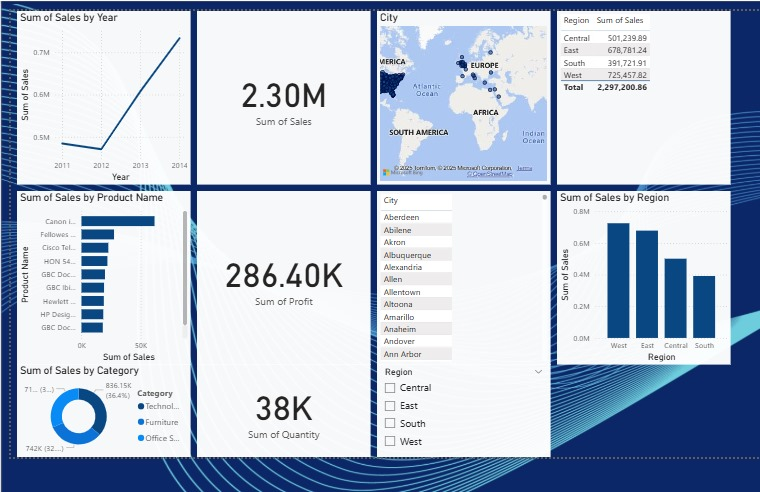

What the dashboard file says about the page in this screenshot:
{"tool":"powerbi","page":{"name":"Page 1","canvas":[1280,720],"ordinal":0},"visuals":[{"type":"lineChart","fields":{"Category":["Orders.Order Date.Variation.Date Hierarchy.Year","Orders.Order Date.Variation.Date Hierarchy.Quarter","Orders.Order Date.Variation.Date Hierarchy.Month","Orders.Order Date.Variation.Date Hierarchy.Day"],"Y":["Sum(Orders.Sales)"]},"box":[10,0,280,280],"z":0},{"type":"barChart","fields":{"Category":["Orders.Product Name"],"Y":["Sum(Orders.Sales)"]},"box":[10,290,280,280],"z":1000},{"type":"donutChart","fields":{"Category":["Orders.Category"],"Y":["Sum(Orders.Sales)"]},"box":[10,570,280,150],"z":2000},{"type":"card","fields":{"Values":["Sum(Orders.Sales)"]},"box":[300,0,280,280],"z":3000},{"type":"card","fields":{"Values":["Sum(Orders.Profit)"]},"box":[300,290,280,280],"z":4000},{"type":"card","fields":{"Values":["Sum(Orders.Quantity)"]},"box":[300,570,280,150],"z":5000},{"type":"map","fields":{"Category":["Orders.City"]},"box":[590,0,280,280],"z":6000},{"type":"tableEx","fields":{"Values":["Orders.City"]},"box":[590,290,280,280],"z":7000},{"type":"slicer","fields":{"Values":["Orders.Region"]},"box":[590,570,280,150],"z":8000},{"type":"tableEx","fields":{"Values":["People.Region","Sum(Orders.Sales)"]},"box":[880,0,280,280],"z":9000},{"type":"clusteredColumnChart","fields":{"Category":["Orders.Region"],"Y":["Sum(Orders.Sales)"]},"box":[880,290,280,280],"z":10000}]}

Visuals, with their boxes in screenshot pixels (x1, y1, x2, y2):
lineChart - Orders.Order Date.Variation.Date Hierarchy.Year x Orders.Order Date.Variation.Date Hierarchy.Quarter: locate(20, 16, 190, 186)
barChart - Orders.Product Name x Sum(Orders.Sales): locate(20, 192, 190, 362)
donutChart - Orders.Category x Sum(Orders.Sales): locate(20, 362, 190, 453)
card - Sum(Orders.Sales): locate(196, 16, 366, 186)
card - Sum(Orders.Profit): locate(196, 192, 366, 362)
card - Sum(Orders.Quantity): locate(196, 362, 366, 453)
map - Orders.City: locate(372, 16, 542, 186)
tableEx - Orders.City: locate(372, 192, 542, 362)
slicer - Orders.Region: locate(372, 362, 542, 453)
tableEx - People.Region x Sum(Orders.Sales): locate(548, 16, 718, 186)
clusteredColumnChart - Orders.Region x Sum(Orders.Sales): locate(548, 192, 718, 362)
